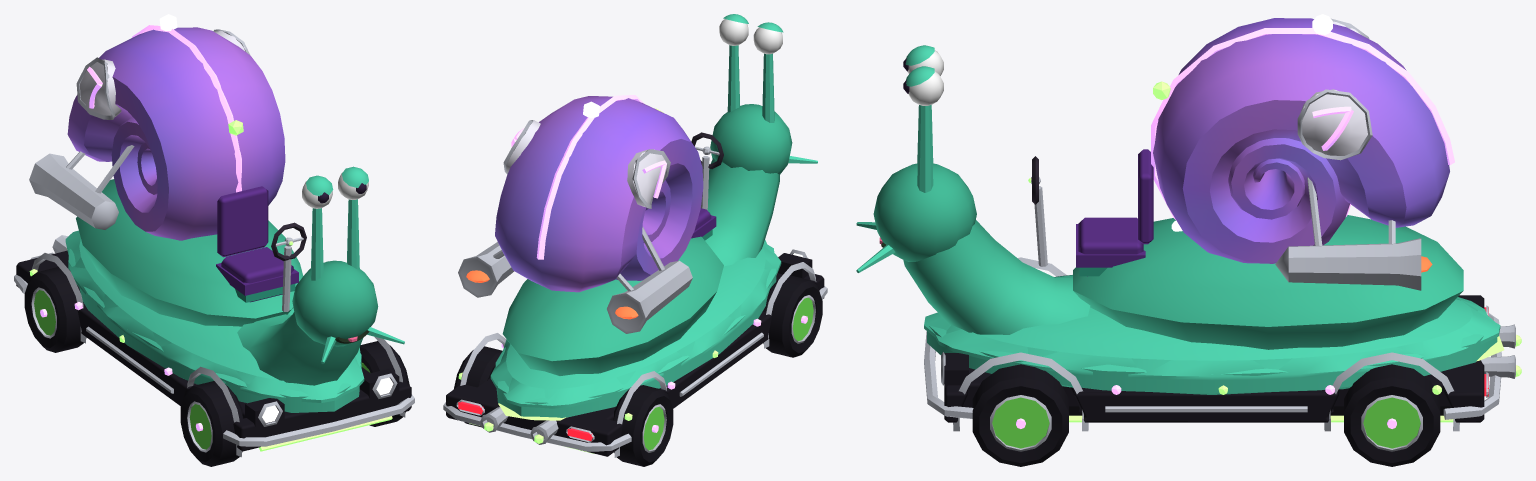
The model's file is turbo_escargot_lo.glb.
The picture shows the model from 3 angles, left to right: view 1: azimuth 30°, elevation 25°; view 2: azimuth 150°, elevation 25°; view 3: azimuth 270°, elevation 25°; orthographic projection. The views are drawn at different scales.
Visible parts, largest first — view 1: shell_coil, mantle, foot, deck, skirt, head, neck, rocket_0, seat_back, wheel_FR_tyre, wheel_RR_tyre, bumper_1 (+20 smaller); view 2: shell_coil, mantle, foot, neck, skirt, deck, head, rocket_0, wheel_FR_tyre, wheel_RR_tyre, rocket_1, bumper_0 (+17 smaller); view 3: shell_coil, mantle, foot, neck, deck, skirt, head, rocket_1, wheel_FL_tyre, wheel_RL_tyre, shell_spine, roundel_1 (+16 smaller).
Part boxes in pixels (x1=…): shell_coil: x1=67, y1=27, x2=285, y2=240; mantle: x1=76, y1=179, x2=303, y2=326; foot: x1=68, y1=239, x2=361, y2=412; deck: x1=16, y1=250, x2=411, y2=451; skirt: x1=65, y1=230, x2=364, y2=402; head: x1=292, y1=260, x2=378, y2=346; neck: x1=237, y1=312, x2=362, y2=385; rocket_0: x1=29, y1=153, x2=118, y2=229; seat_back: x1=217, y1=186, x2=268, y2=257; wheel_FR_tyre: x1=180, y1=381, x2=243, y2=466; wheel_RR_tyre: x1=24, y1=267, x2=86, y2=352; bumper_1: x1=223, y1=394, x2=414, y2=446; shell_coil: x1=495, y1=96, x2=703, y2=292; mantle: x1=502, y1=236, x2=723, y2=375; foot: x1=495, y1=242, x2=776, y2=417; neck: x1=705, y1=158, x2=779, y2=266; skirt: x1=490, y1=239, x2=781, y2=408; deck: x1=446, y1=273, x2=824, y2=456; head: x1=710, y1=104, x2=792, y2=174; rocket_0: x1=607, y1=260, x2=692, y2=333; wheel_FR_tyre: x1=762, y1=275, x2=822, y2=357; wheel_RR_tyre: x1=613, y1=385, x2=673, y2=466; rocket_1: x1=458, y1=242, x2=514, y2=297; bumper_0: x1=443, y1=402, x2=631, y2=451; shell_coil: x1=1153, y1=18, x2=1449, y2=263; mantle: x1=1073, y1=215, x2=1463, y2=349; foot: x1=927, y1=275, x2=1497, y2=394; neck: x1=903, y1=220, x2=1090, y2=334; deck: x1=944, y1=295, x2=1484, y2=422; skirt: x1=924, y1=275, x2=1500, y2=380; head: x1=873, y1=163, x2=976, y2=261; rocket_1: x1=1275, y1=238, x2=1421, y2=290; wheel_FL_tyre: x1=972, y1=364, x2=1068, y2=466; wheel_RL_tyre: x1=1344, y1=364, x2=1440, y2=466; shell_spine: x1=1151, y1=28, x2=1454, y2=219; roundel_1: x1=1302, y1=90, x2=1367, y2=155.
Size of the model in its own units: 2.4 by 3.91 by 5.91.
